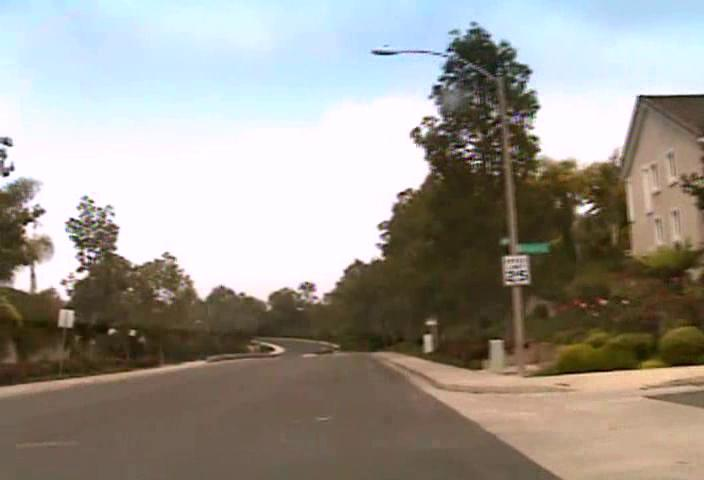speedLimit25: (501, 253, 531, 286)
